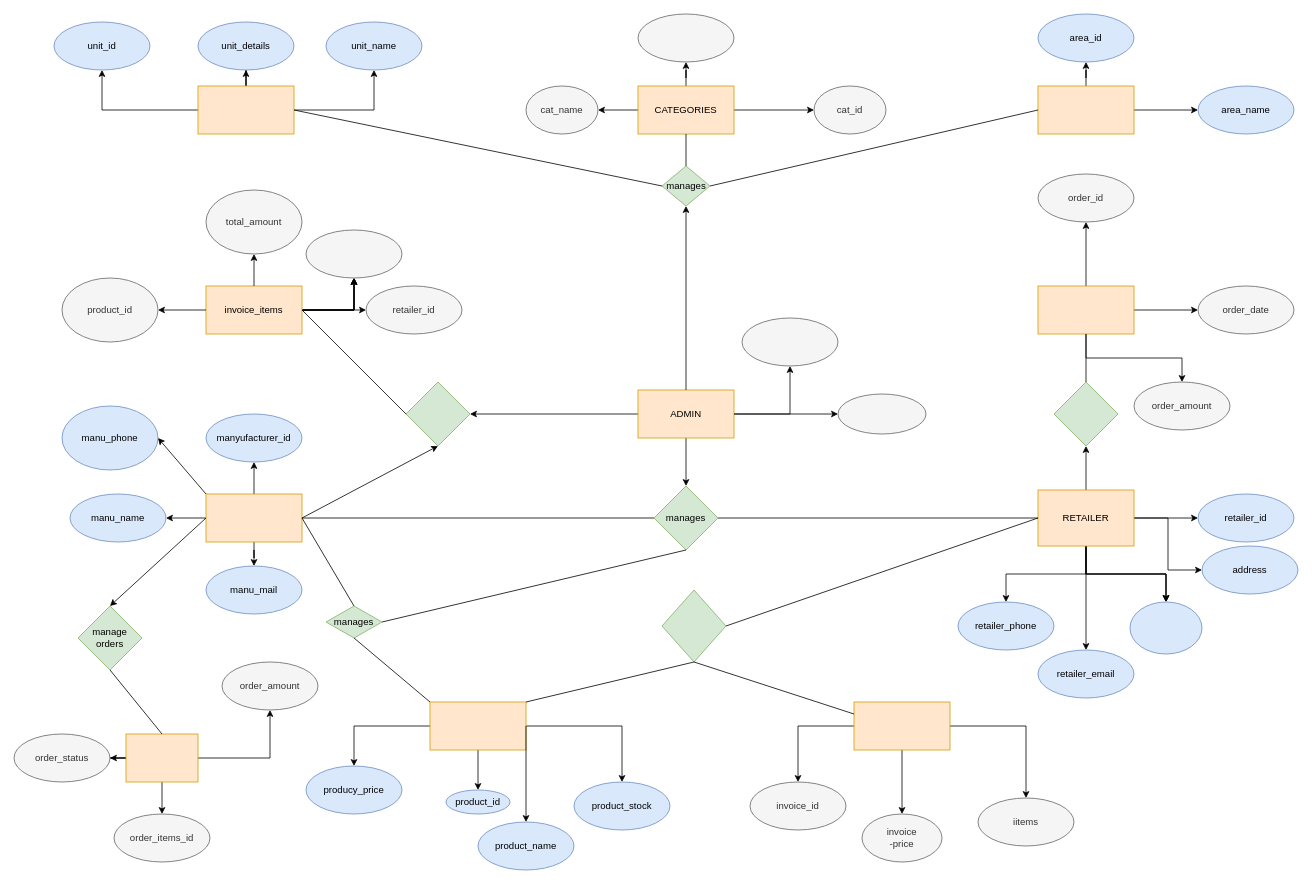
The diagram is 1312 pixels wide and 884 high, and some of its shapes have lost their labels. Each missing label, with the centre of its shape:
admin_id: [789,341]
admin_username: [881,413]
AREA: [1085,109]
cat_details: [685,37]
get invoice: [437,413]
give: [1085,413]
invoice: [901,725]
invoice_items_id: [353,253]
MANUFACTURER: [253,517]
order_items: [161,757]
orders: [1085,309]
product: [477,725]
retailer_name: [1165,627]
select: [693,625]
UNIT: [245,109]
